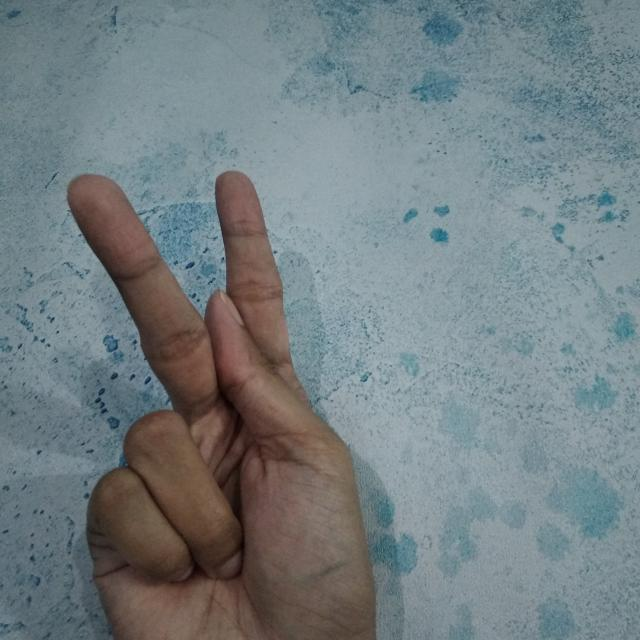K: (59, 166, 386, 640)
